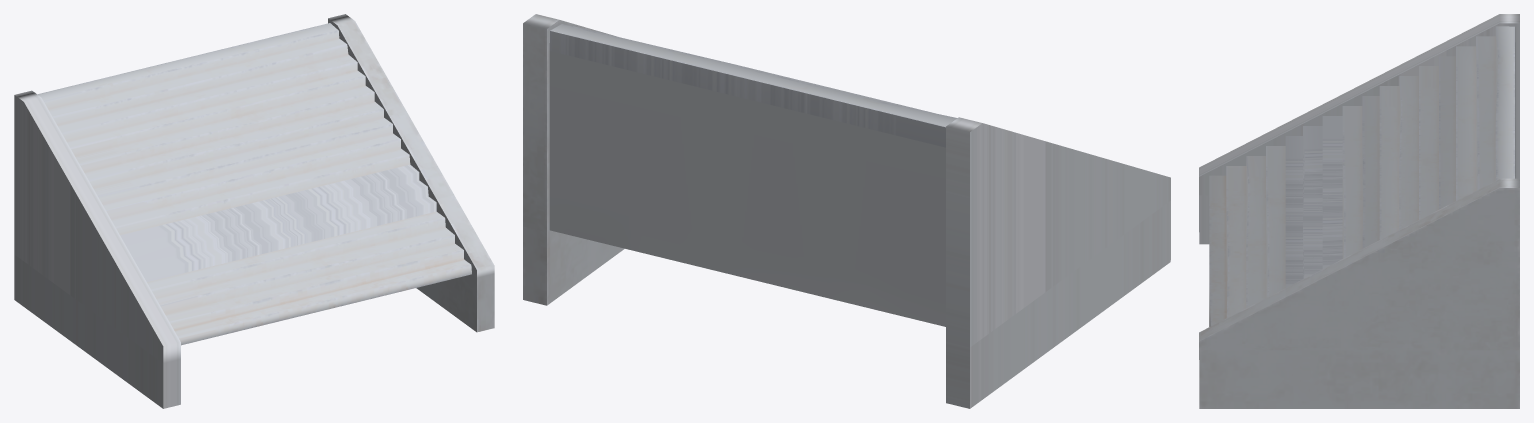
File: objects_un_t05step01.gltf
3 views of the same model, side by side, from view 1: azimuth 30°, elevation 25°; view 2: azimuth 150°, elevation 25°; view 3: azimuth 270°, elevation 25° (orthographic). The views are drawn at different scales.
Visible parts, largest first — view 1: objects_un_t05step01; view 2: objects_un_t05step01; view 3: objects_un_t05step01.
Boxes of the visible parts, <box> form: objects_un_t05step01: <box>14,14,494,408</box>; objects_un_t05step01: <box>523,14,1170,408</box>; objects_un_t05step01: <box>1199,14,1519,408</box>.
Size of what is drawn, in the model's own units: 9.36 by 5.54 by 7.29.
2 materials, 2 textured.
